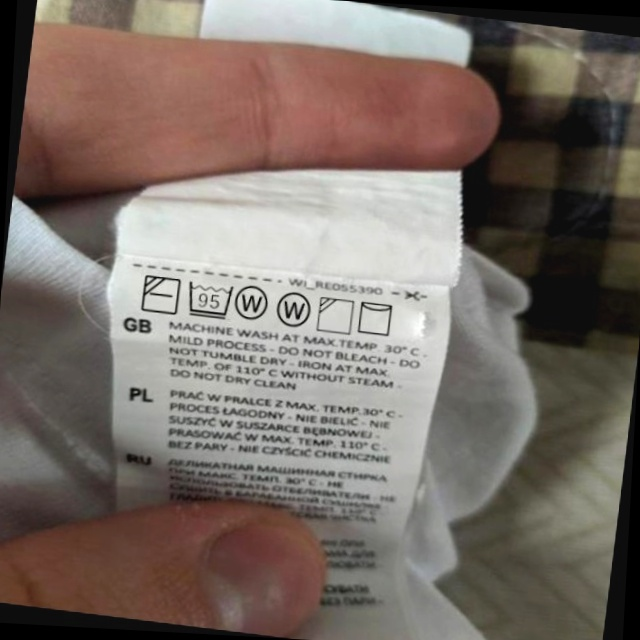95C: (183, 277, 236, 321)
dry_flat_in_shade: (138, 271, 183, 318)
line_dry: (354, 296, 398, 339)
shade_dry: (314, 294, 357, 337)
wet_clean: (233, 280, 273, 324), (274, 289, 314, 332)
